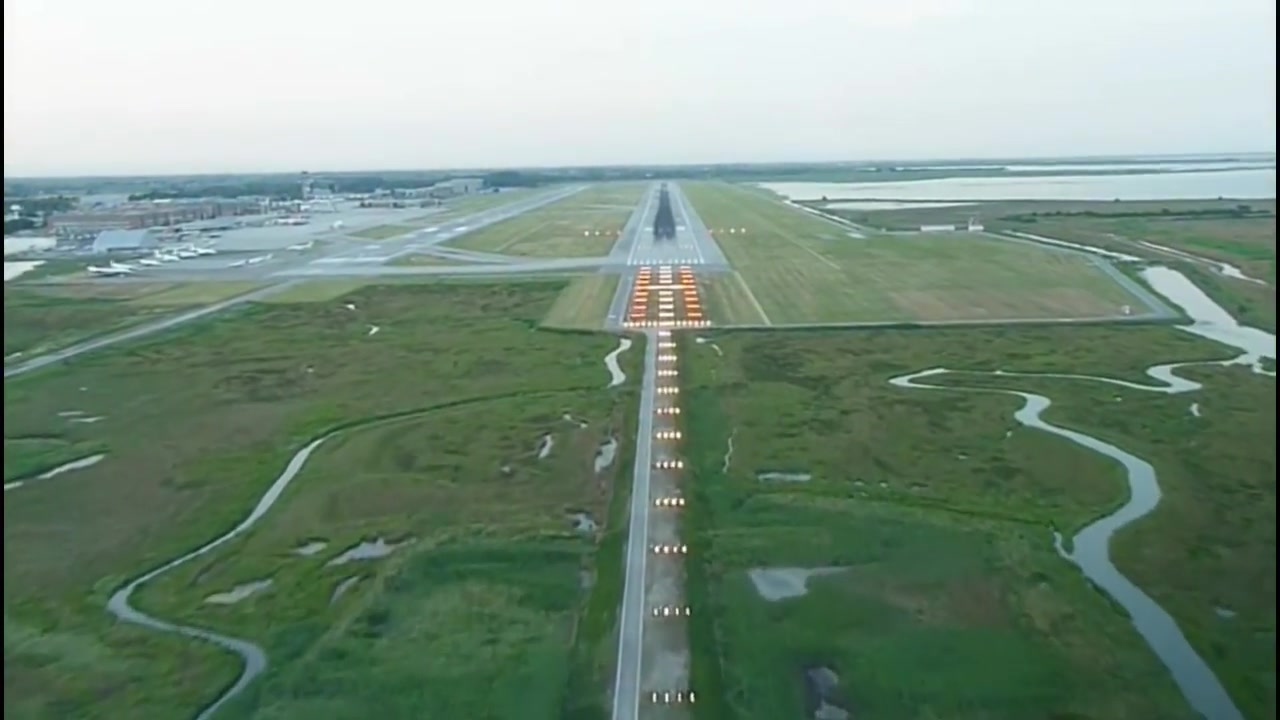entrance: (630, 258, 702, 264)
runway: (317, 187, 585, 265), (625, 173, 706, 269)
